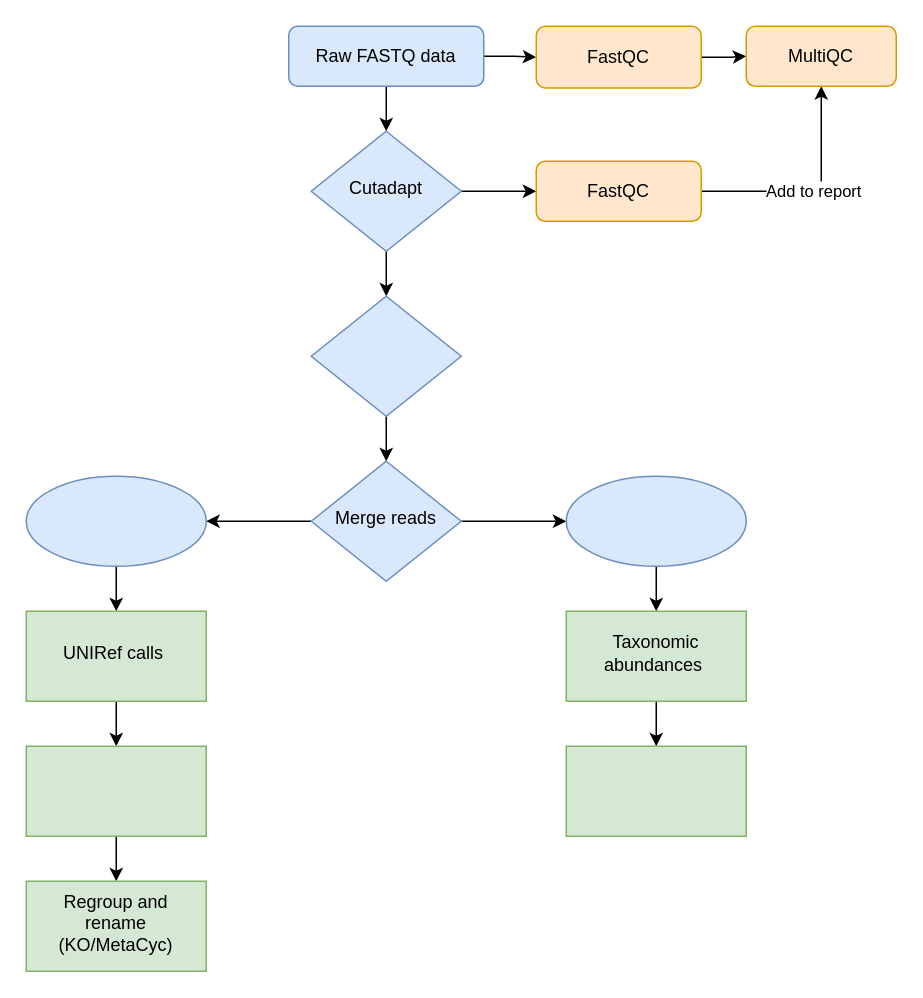
The diagram is 923 pixels wide and 998 high, and some of its shapes have lost their labels. Here are the shapes that lost their labels. From the top down, the box of each, then its label:
(310, 295, 461, 416): Filter PhiX & host
(25, 475, 206, 566): HUMAnN3
(565, 475, 746, 566): MetaPhlAn3
(25, 745, 206, 836): Normalise RPK to CPM
(565, 745, 746, 836): Community structure
